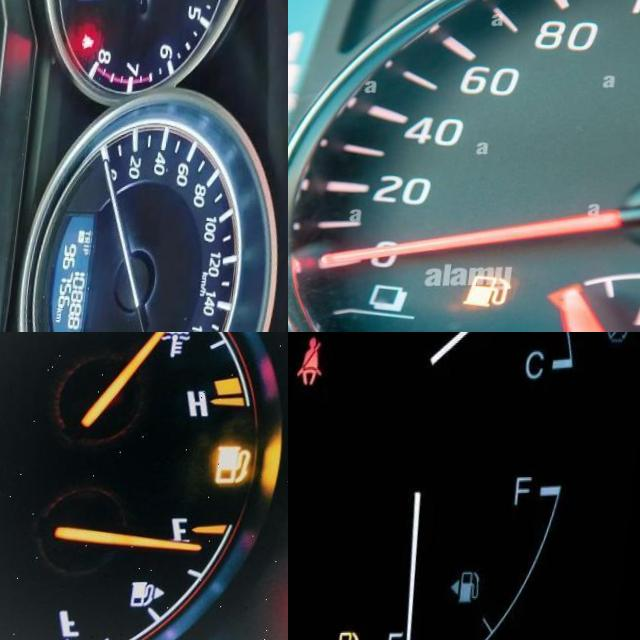Seat Belt: (302, 341, 332, 385), (82, 34, 98, 52)
